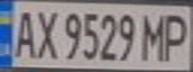2: (96, 9, 121, 62)
5: (78, 8, 100, 61)
9: (115, 9, 142, 62), (60, 7, 84, 60)
A: (9, 6, 39, 60)
M: (139, 9, 172, 62)
P: (160, 9, 193, 62)
X: (30, 6, 60, 60)
